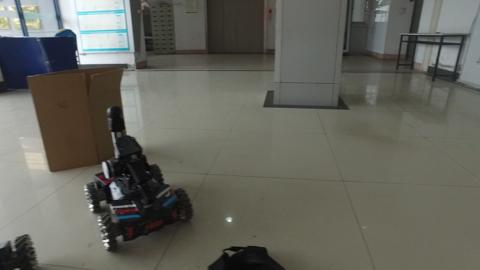box: (28, 63, 121, 166)
chariot: (81, 102, 194, 247)
